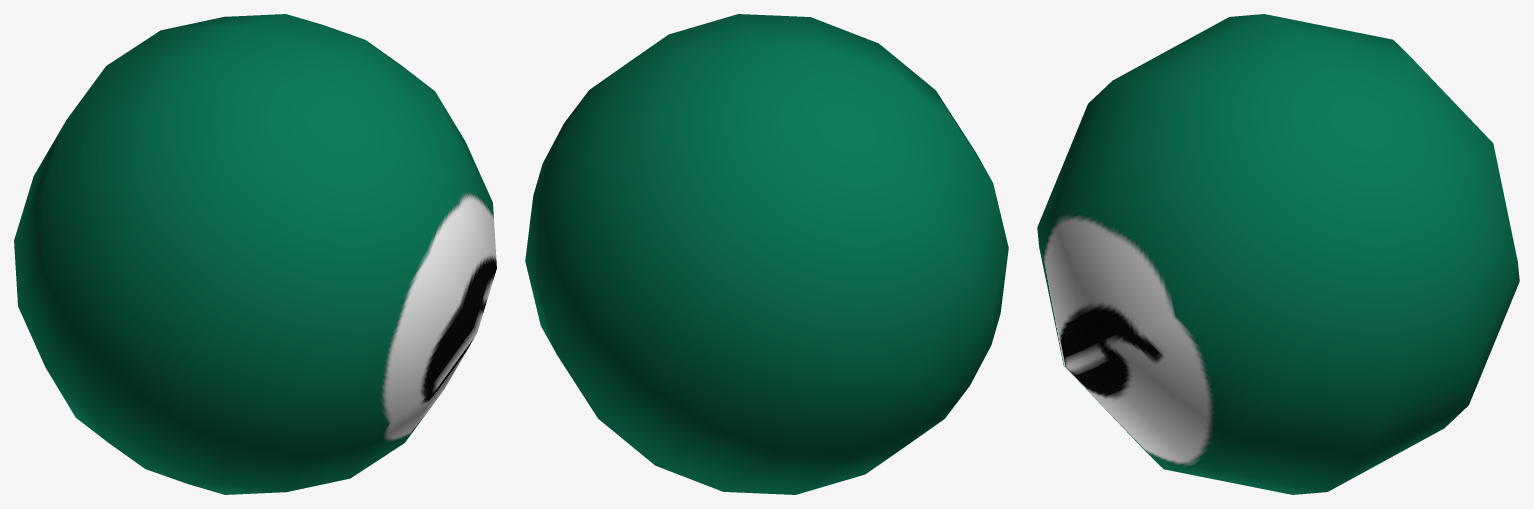
File: Ball6.gltf
The picture shows the model from 3 angles, left to right: view 1: azimuth 30°, elevation 25°; view 2: azimuth 150°, elevation 25°; view 3: azimuth 270°, elevation 25°; orthographic projection.
Parts seen in each view (by area): view 1: Ball6_Material_#31_0; view 2: Ball6_Material_#31_0; view 3: Ball6_Material_#31_0.
Part boxes in pixels (x1,y1,x2,y2): Ball6_Material_#31_0: [14, 14, 496, 494]; Ball6_Material_#31_0: [525, 14, 1008, 494]; Ball6_Material_#31_0: [1037, 14, 1519, 494].
Bounding box in the file's own units: 5.71 × 5.76 × 5.72.
Materials: 1 (1 with a texture image).
